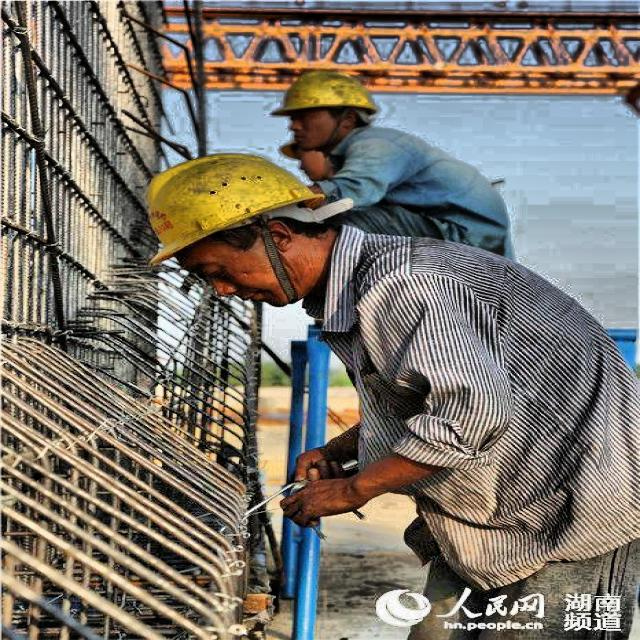helmet: (130, 134, 348, 300), (261, 68, 394, 162)
